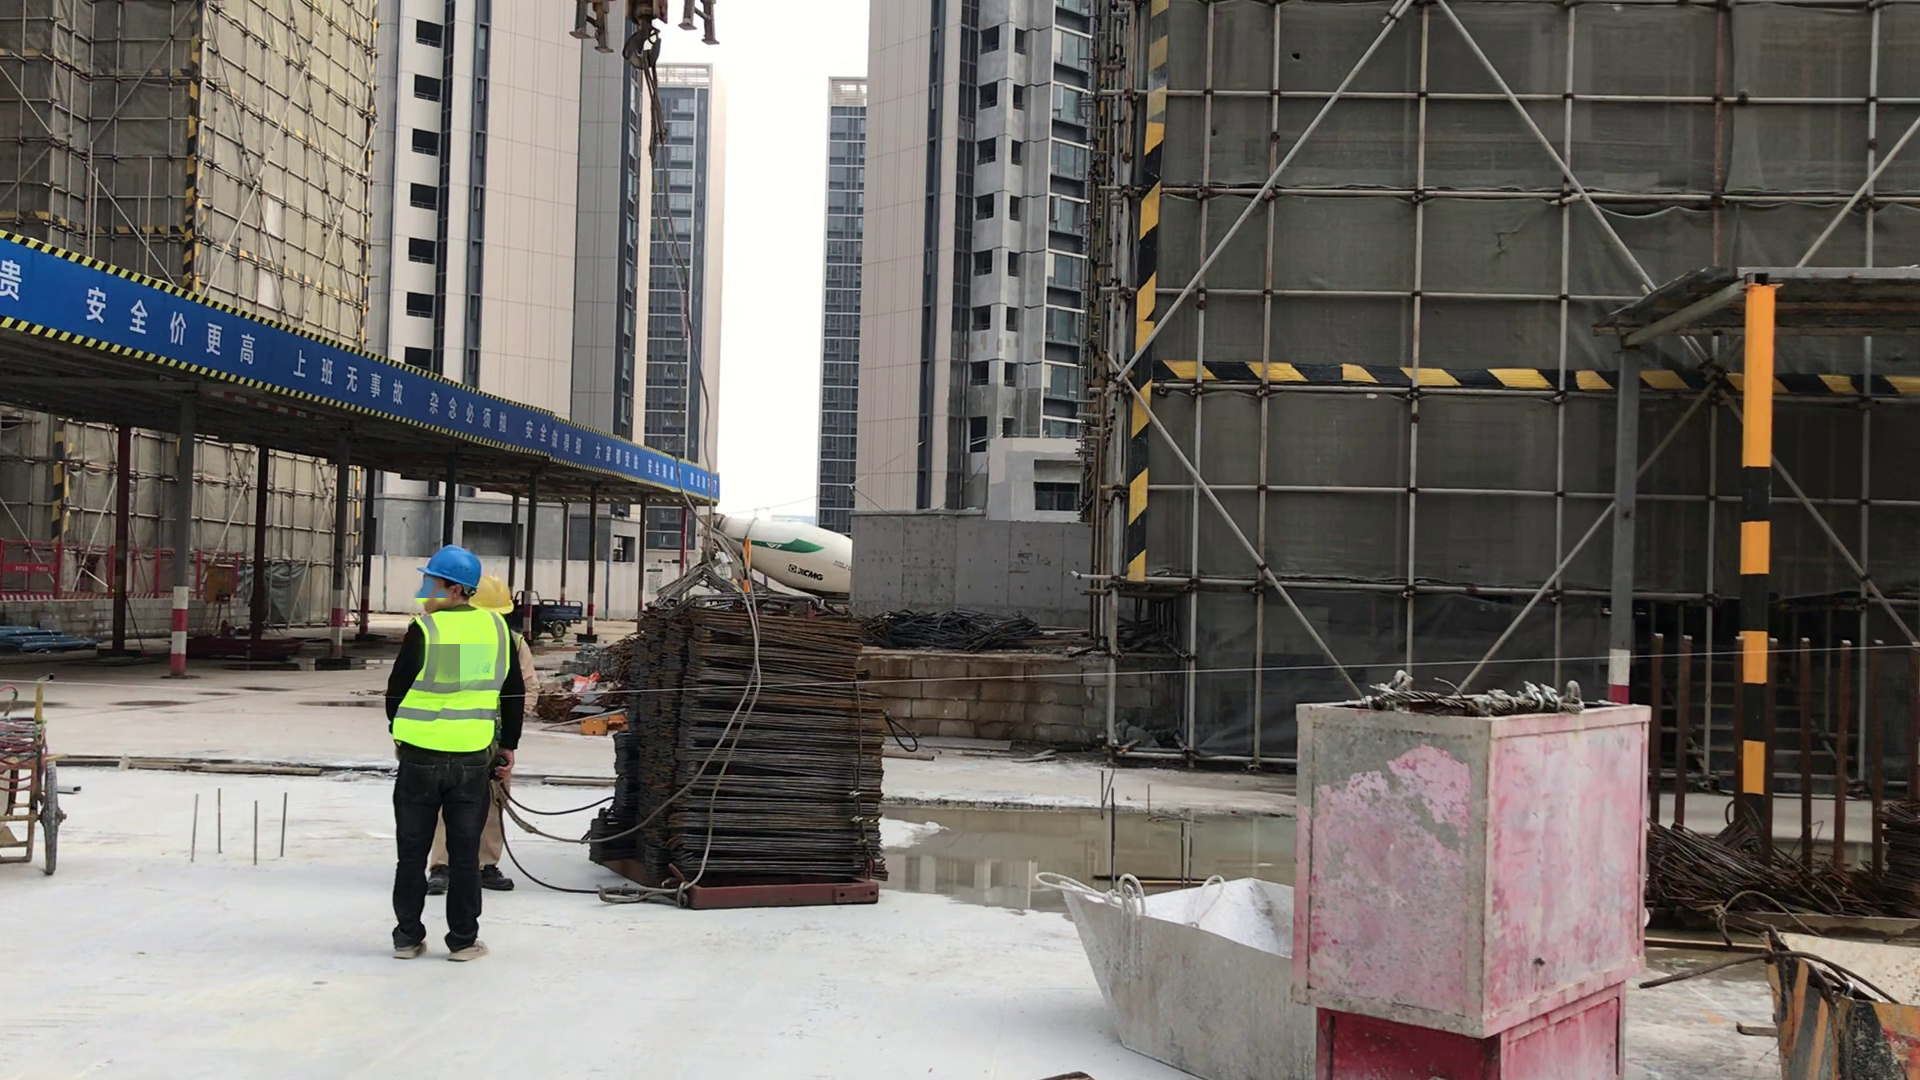ebox: (203, 560, 236, 601)
fence: (1, 537, 249, 601)
helmet: (419, 542, 485, 598)
hook: (567, 1, 735, 107)
hopper: (1043, 872, 1318, 1066), (1739, 911, 1920, 1073)
person: (376, 536, 522, 970)
slogan: (1, 229, 208, 369), (532, 401, 722, 502), (214, 306, 374, 408), (375, 355, 522, 444)
vest: (404, 605, 512, 761)
